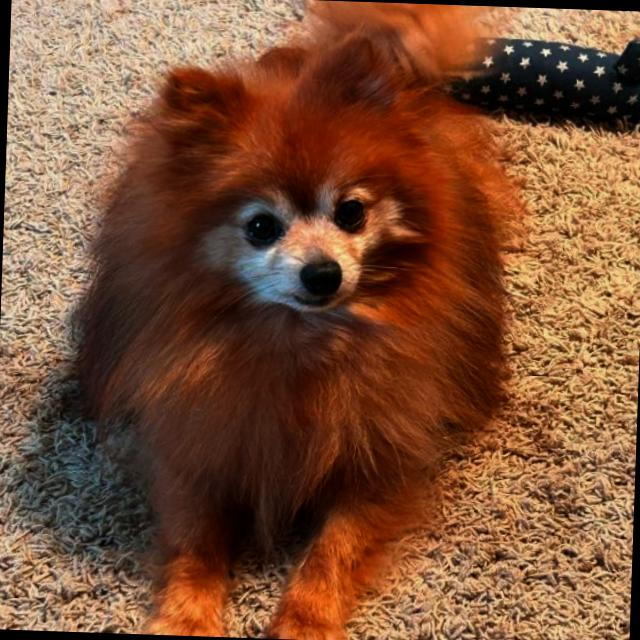pomeranian_dog: (121, 10, 472, 385)
